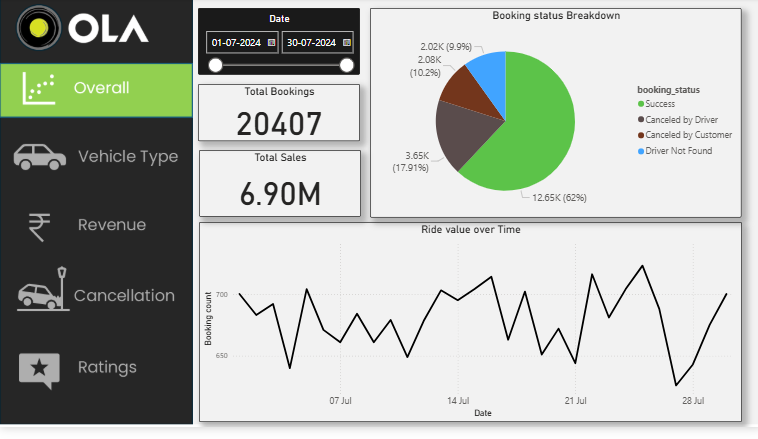

The page's visual inventory and layout, read from the dashboard file:
{"tool":"powerbi","page":{"name":"Overall","canvas":[1280,720],"ordinal":0},"visuals":[{"type":"lineChart","title":"Ride value over Time","fields":{"Y":["CountNonNull(ola_db bookings_final.booking_id)"],"Category":["ola_db bookings_final.booking_date"]},"box":[334,376,912,336],"z":0},{"type":"actionButton","box":[0,224,320,96],"z":1000},{"type":"actionButton","box":[0,336,320,96],"z":2000},{"type":"actionButton","box":[0,448,320,96],"z":3000},{"type":"actionButton","box":[0,576,320,96],"z":4000},{"type":"pieChart","title":"Booking status Breakdown","fields":{"Category":["ola_db bookings_final.booking_status"],"Y":["CountNonNull(ola_db bookings_final.booking_status)"]},"box":[621,16,624,352],"z":5000},{"type":"slicer","title":"Date","fields":{"Values":["ola_db bookings_final.booking_date"]},"box":[333,16,272,112],"z":6000},{"type":"card","title":"Total Bookings","fields":{"Values":["Count(ola_db bookings_final.booking_id)"]},"box":[333,144,272,96],"z":7000},{"type":"card","title":"Total Sales","fields":{"Values":["Sum(ola_db bookings_final.booking_value)"]},"box":[334,256,272,112],"z":8000}]}

Visuals, with their boxes in screenshot pixels (x1, y1, x2, y2), scaled from the page's 1280x720 canvas onto the 758x439 screenshot:
"Ride value over Time" lineChart: {"left": 198, "top": 229, "right": 738, "bottom": 434}
actionButton: {"left": 0, "top": 137, "right": 190, "bottom": 195}
actionButton: {"left": 0, "top": 205, "right": 190, "bottom": 263}
actionButton: {"left": 0, "top": 273, "right": 190, "bottom": 332}
actionButton: {"left": 0, "top": 351, "right": 190, "bottom": 410}
"Booking status Breakdown" pieChart: {"left": 368, "top": 10, "right": 737, "bottom": 224}
"Date" slicer: {"left": 197, "top": 10, "right": 358, "bottom": 78}
"Total Bookings" card: {"left": 197, "top": 88, "right": 358, "bottom": 146}
"Total Sales" card: {"left": 198, "top": 156, "right": 359, "bottom": 224}
